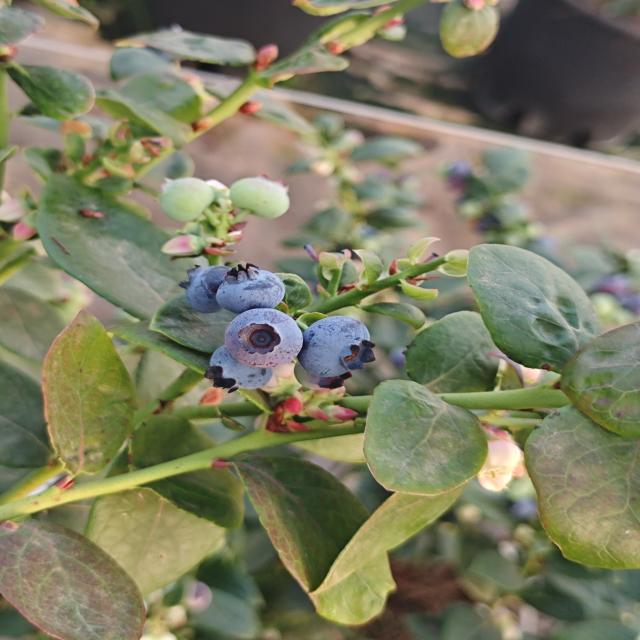ripe: (296, 314, 378, 382), (222, 307, 305, 370), (207, 340, 278, 396), (213, 262, 288, 314), (177, 263, 233, 315)
